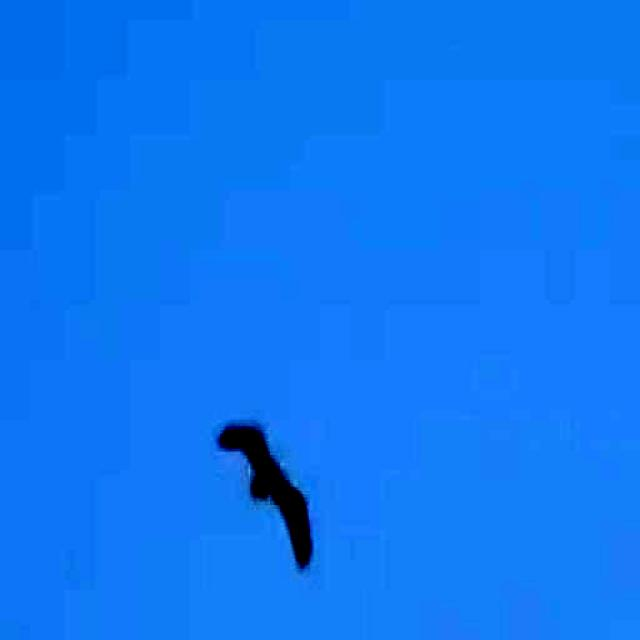airplane: (204, 376, 344, 580)
